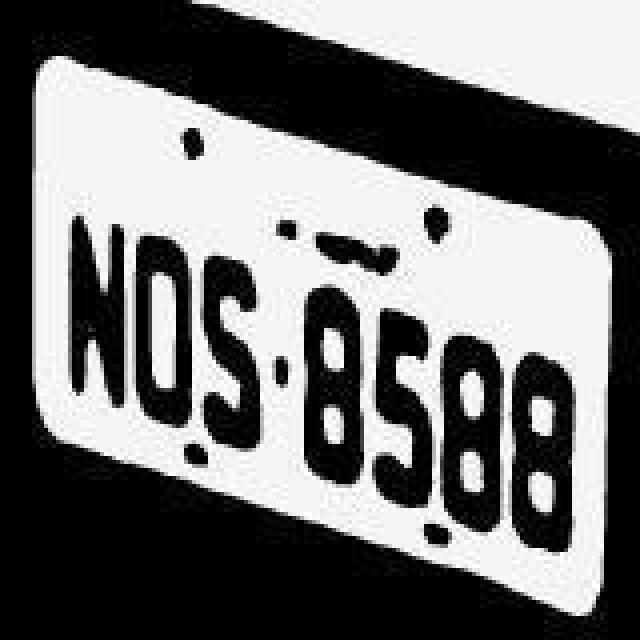5: (368, 290, 440, 526)
8: (508, 316, 588, 564), (292, 272, 364, 512), (436, 306, 508, 542)
N: (54, 196, 130, 428)
O: (122, 224, 198, 440)
S: (198, 250, 274, 454)
